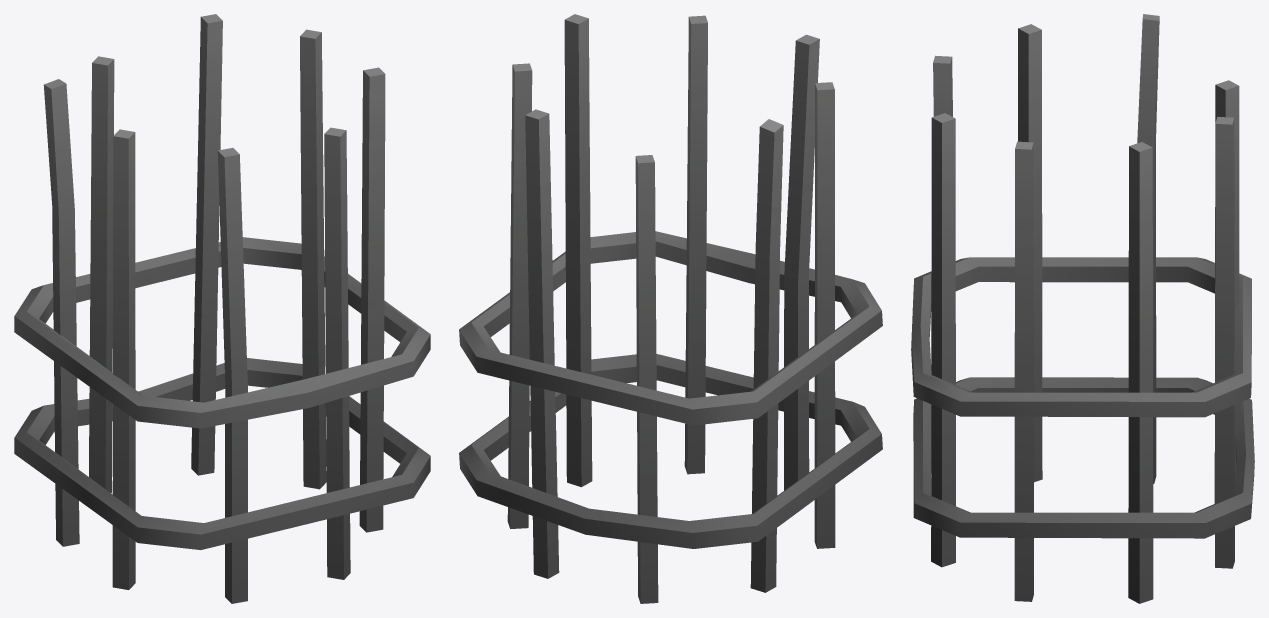
File: RreinforcingBars_B_1_.obj
The picture shows the model from 3 angles, left to right: view 1: azimuth 30°, elevation 25°; view 2: azimuth 150°, elevation 25°; view 3: azimuth 270°, elevation 25°; orthographic projection.
Visible parts, largest first — view 1: RreinforcingBars_B_1_; view 2: RreinforcingBars_B_1_; view 3: RreinforcingBars_B_1_.
Boxes of the visible parts, <box> form: RreinforcingBars_B_1_: <box>14,14,430,603</box>; RreinforcingBars_B_1_: <box>459,14,882,603</box>; RreinforcingBars_B_1_: <box>911,14,1254,603</box>.
Bounding box in the file's own units: 0.4253 × 0.6364 × 0.4318.
